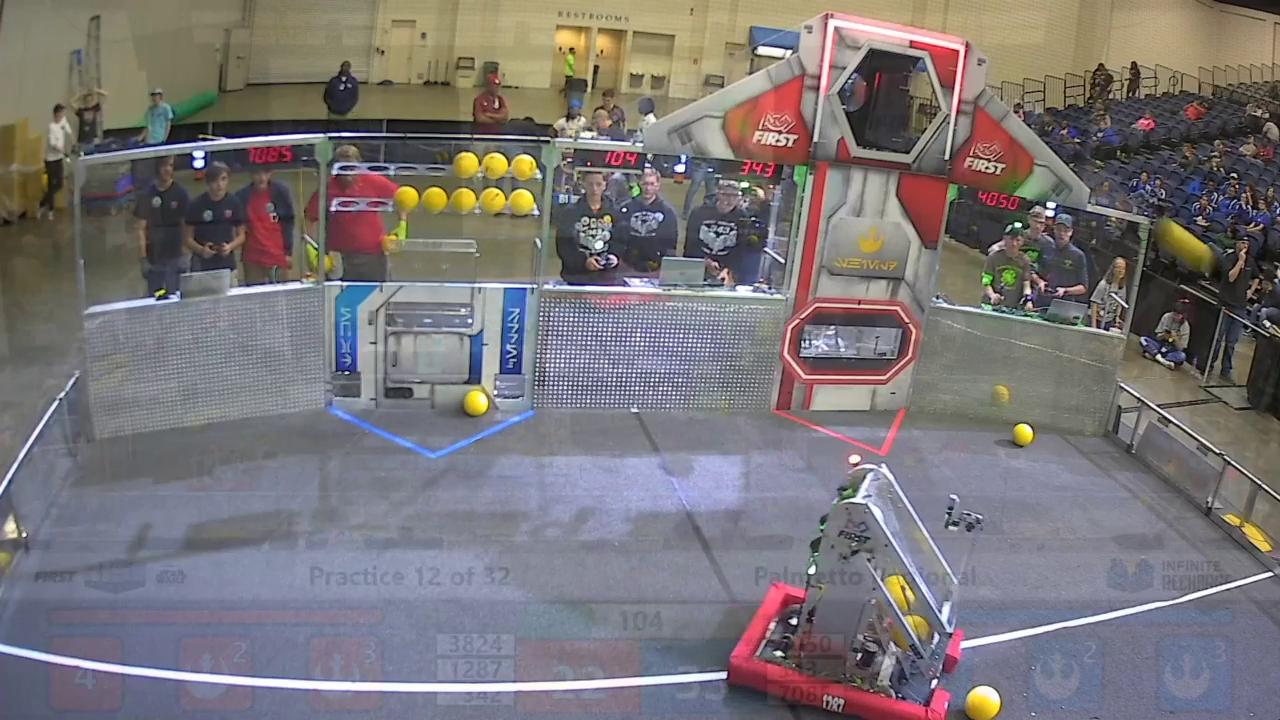robot: (721, 461, 963, 719)
